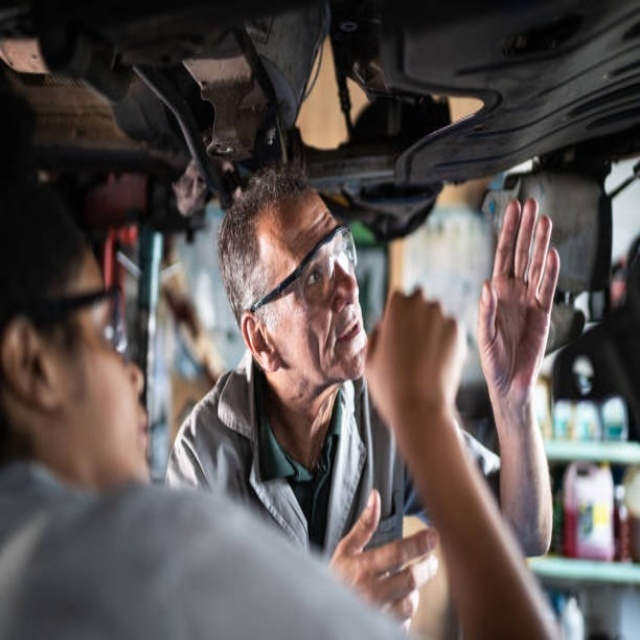Gafas: (246, 224, 357, 317), (15, 286, 121, 344)
Sin_guantes: (476, 194, 561, 409), (360, 283, 465, 443), (328, 486, 439, 632)
Sin_mascara: (327, 314, 364, 376)
